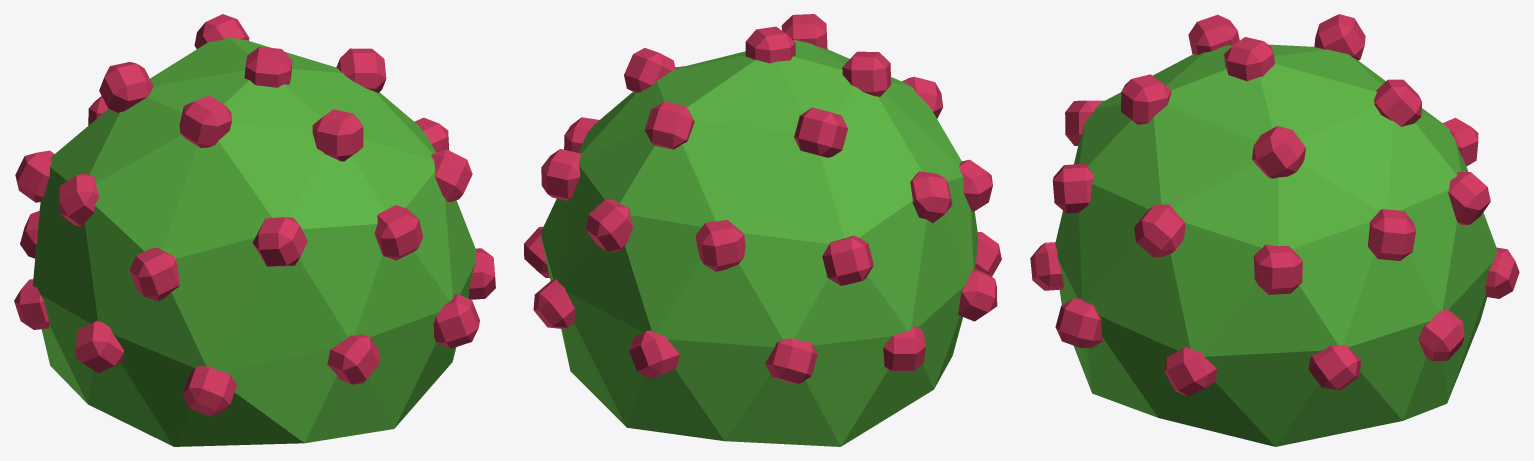
The model's file is fruit-tree.fbx.
The picture shows the model from 3 angles, left to right: view 1: azimuth 30°, elevation 25°; view 2: azimuth 150°, elevation 25°; view 3: azimuth 270°, elevation 25°; orthographic projection.
Parts seen in each view (by area): view 1: fruit-tree, Cube.039, Cube.049, Cube.053, Cube.030, Cube.048, Cube.040, Cube.050, Cube.029, Cube.022, Cube.031, Cube.055 (+9 smaller); view 2: fruit-tree, Cube.050, Cube.043, Cube.042, Cube.044, Cube.033, Cube.051, Cube.036, Cube.049, Cube.041, Cube.045, Cube.032 (+10 smaller); view 3: fruit-tree, Cube.052, Cube.046, Cube.045, Cube.047, Cube.022, Cube.053, Cube.015, Cube.054, Cube.038, Cube.051, Cube.055 (+8 smaller).
Boxes of the visible parts, x1,y1,x2,y2 form: fruit-tree: (32,37,476,446); Cube.039: (252,217,307,266); Cube.049: (179,95,231,147); Cube.053: (312,109,363,161); Cube.030: (182,366,236,416); Cube.048: (374,205,422,260); Cube.040: (129,247,179,301); Cube.050: (99,62,153,112); Cube.029: (327,334,380,384); Cube.022: (433,294,479,348); Cube.031: (75,320,123,373); Cube.055: (244,47,292,87); fruit-tree: (541,40,977,446); Cube.050: (794,107,847,157); Cube.043: (695,220,745,271); Cube.042: (822,235,873,285); Cube.044: (586,199,632,251); Cube.033: (765,338,817,383); Cube.051: (644,101,694,149); Cube.036: (629,330,679,378); Cube.049: (842,51,891,96); Cube.041: (910,171,952,223); Cube.045: (541,149,581,200); Cube.032: (883,326,925,371); fruit-tree: (1055,44,1497,446); Cube.052: (1252,126,1305,178); Cube.046: (1253,244,1302,294); Cube.045: (1368,209,1415,260); Cube.047: (1134,204,1185,257); Cube.022: (1055,298,1102,348); Cube.053: (1121,74,1171,124); Cube.015: (1164,347,1216,396); Cube.054: (1308,345,1361,389); Cube.038: (1418,308,1464,361); Cube.051: (1374,79,1421,126); Cube.055: (1224,37,1274,81).
Bounding box in the file's own units: 843 × 867 × 663.
